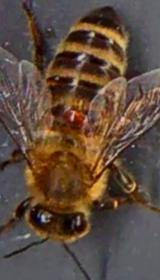varroa_mite: (58, 105, 90, 133)
